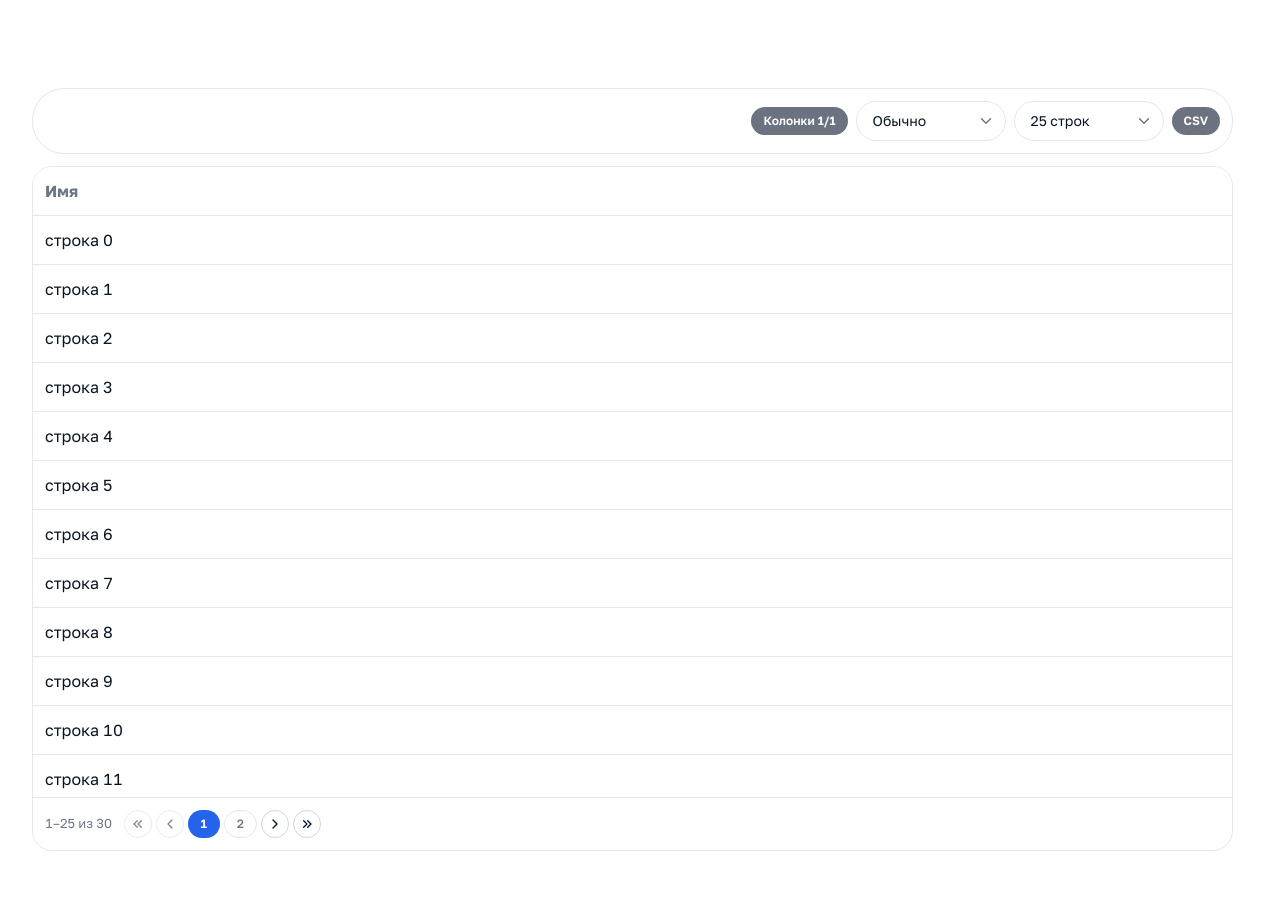
Test: меню колонок › закрывается по Escape
Click the button "Колонки 1/1" at (800,121), box [752,107,848,135]
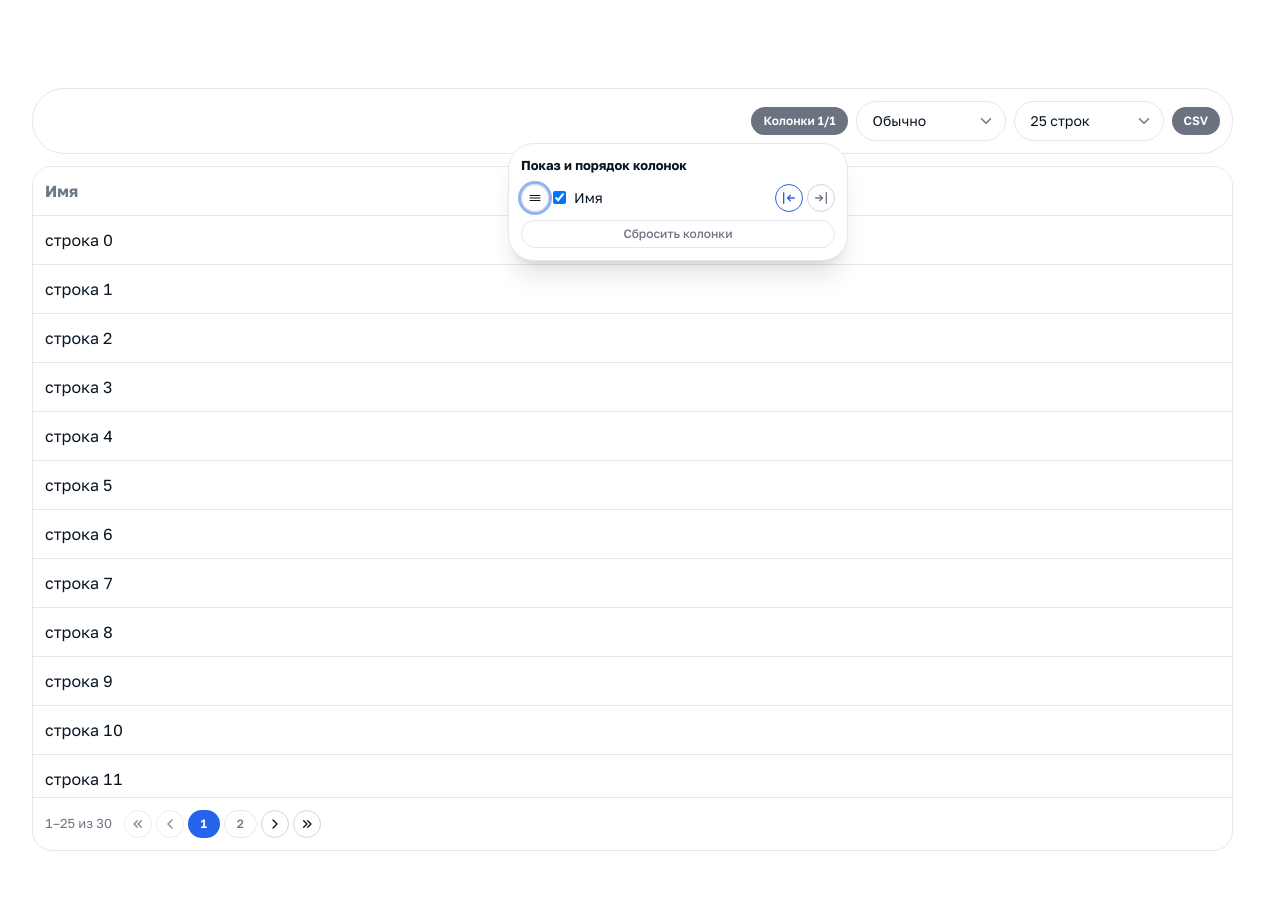
Expected: the text "Показ и порядок колонок" is shown, [521,157,687,173]
Press Escape
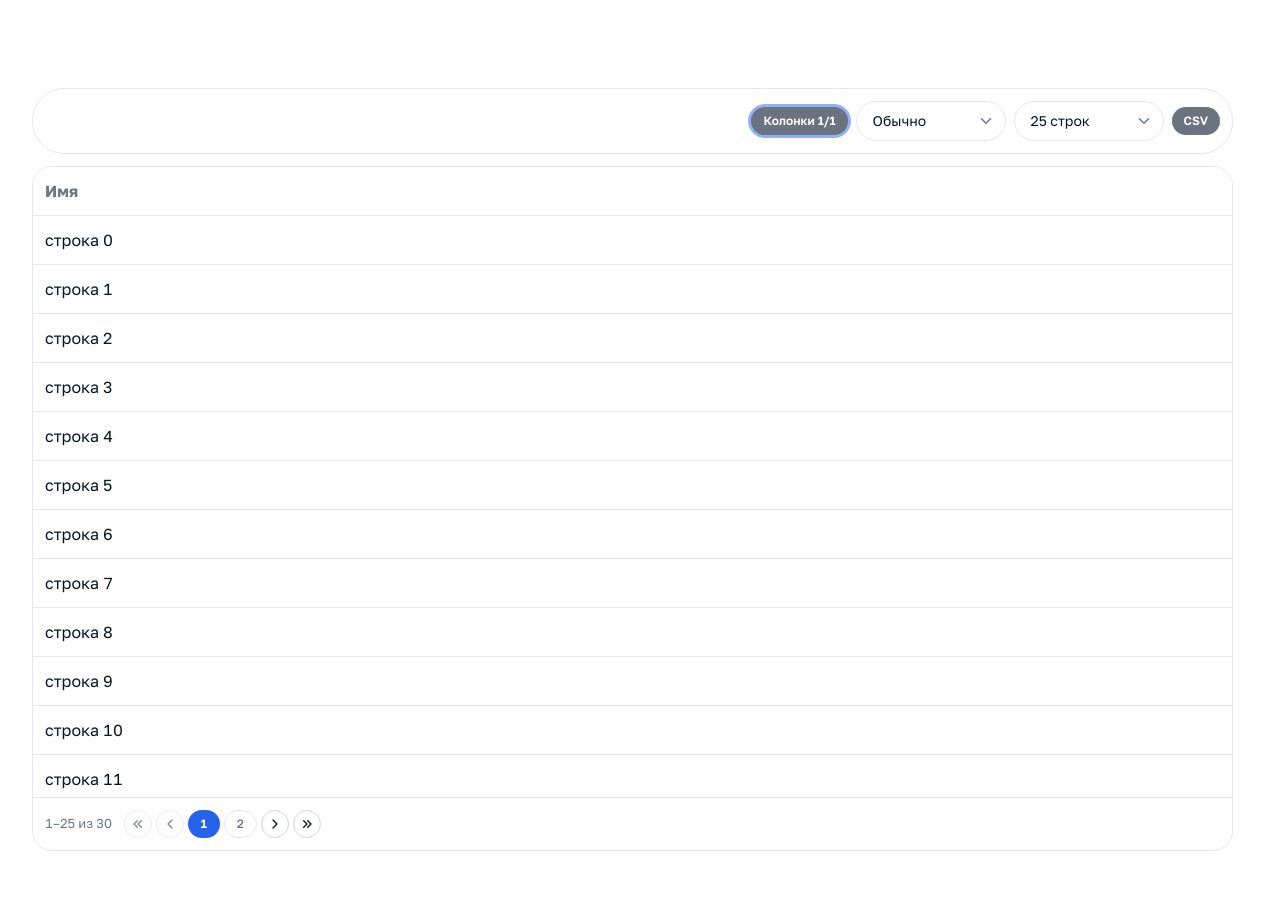
Expected: the text "Показ и порядок колонок" is gone
